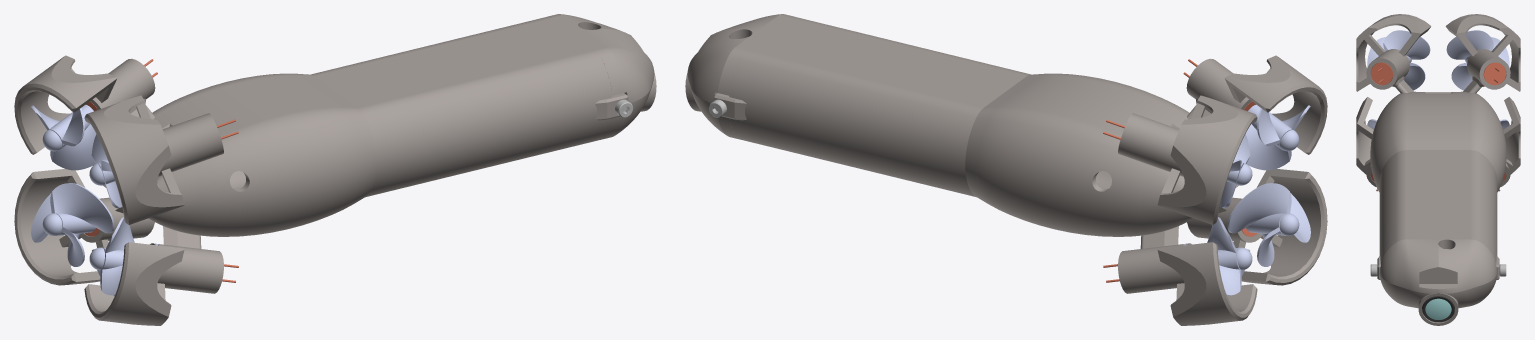
The model's file is AutonomousTorpedo.glb.
3 renders of one model, left to right at view 1: azimuth 30°, elevation 25°; view 2: azimuth 150°, elevation 25°; view 3: azimuth 270°, elevation 25°, orthographic. The views are drawn at different scales.
Parts seen in each view (by area): view 1: nuclear_core_Torptangular-1, nuclear_core_Torptangular-5, new_prop-3, new_prop-1, new_prop-4, new_prop-2; view 2: nuclear_core_Torptangular-1, nuclear_core_Torptangular-5, new_prop-4, new_prop-2, new_prop-3, new_prop-1; view 3: nuclear_core_Torptangular-1, nuclear_core_Torptangular-5, new_prop-2, new_prop-1, OV2640_21mm-160_camera-1, Tiny Motor-5, Tiny Motor-1.
Part boxes in pixels (x1,y1,x2,y2): nuclear_core_Torptangular-1: (14, 17, 628, 325); nuclear_core_Torptangular-5: (547, 14, 656, 139); new_prop-3: (31, 183, 114, 266); new_prop-1: (31, 104, 96, 170); new_prop-4: (89, 217, 158, 295); new_prop-2: (89, 134, 158, 208); nuclear_core_Torptangular-1: (713, 17, 1327, 325); nuclear_core_Torptangular-5: (685, 14, 794, 139); new_prop-4: (1227, 183, 1310, 266); new_prop-2: (1245, 104, 1310, 170); new_prop-3: (1183, 217, 1252, 295); new_prop-1: (1183, 134, 1252, 208); nuclear_core_Torptangular-1: (1356, 14, 1520, 279); nuclear_core_Torptangular-5: (1379, 235, 1497, 325); new_prop-2: (1367, 30, 1430, 90); new_prop-1: (1446, 30, 1509, 90); OV2640_21mm-160_camera-1: (1422, 296, 1454, 322); Tiny Motor-5: (1370, 62, 1393, 85); Tiny Motor-1: (1483, 62, 1506, 85).
Bounding box in the file's own units: 0.1522 × 0.0502 × 0.0502.
